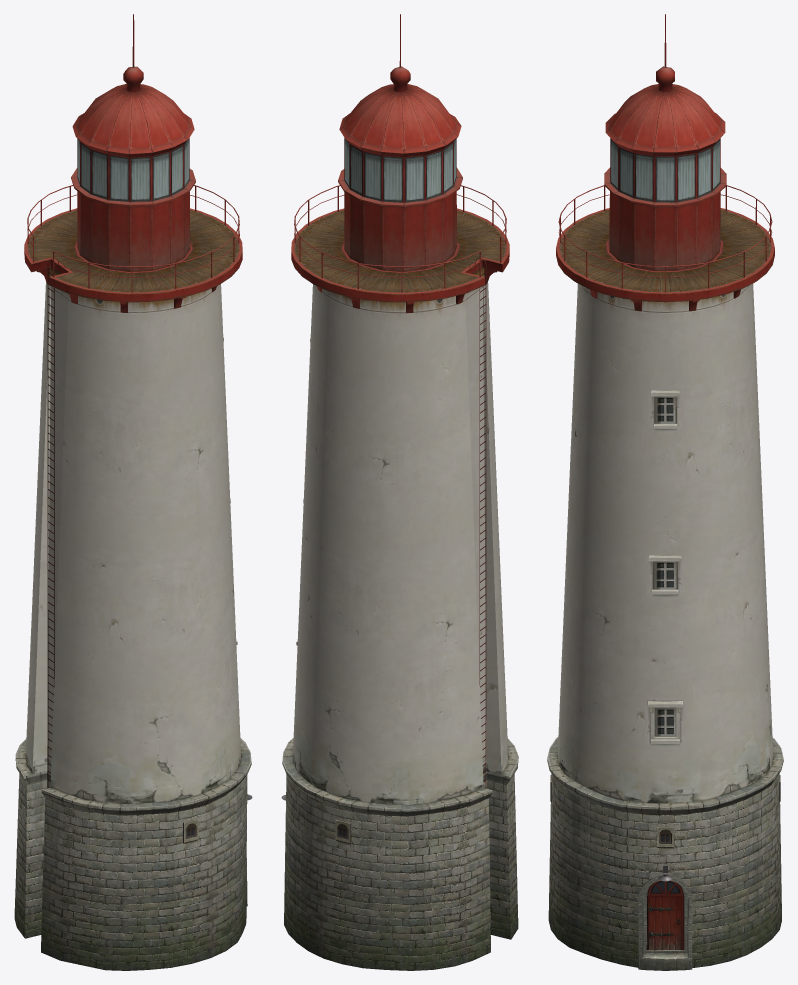
File: lighthouse.fbx
3 views of the same model, side by side, from view 1: azimuth 30°, elevation 25°; view 2: azimuth 150°, elevation 25°; view 3: azimuth 270°, elevation 25° (orthographic).
Visible parts, largest first — view 1: GEOM0-LOD2.001; view 2: GEOM0-LOD2.001; view 3: GEOM0-LOD2.001.
Boxes of the visible parts, left/top/right/bottom form: GEOM0-LOD2.001: left=14, top=14, right=252, bottom=970; GEOM0-LOD2.001: left=281, top=14, right=518, bottom=970; GEOM0-LOD2.001: left=547, top=14, right=783, bottom=970.
Size of the model in its own units: 856 by 3379 by 798.
